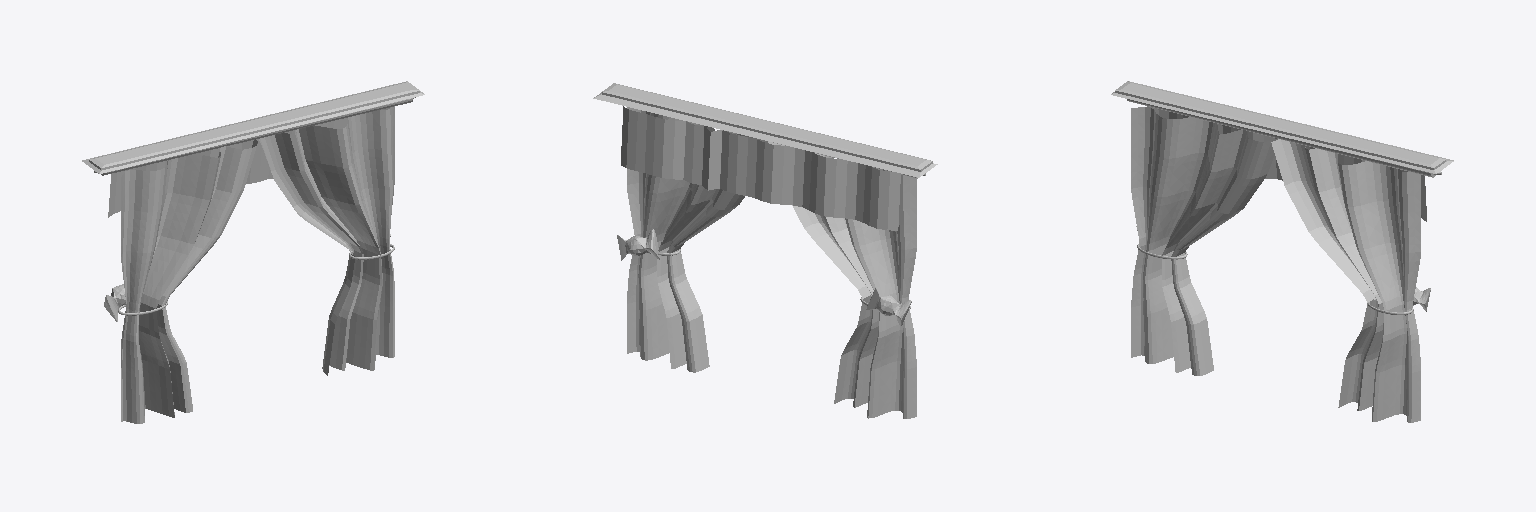
The model's file is Window Drapes.obj.
3 views of the same model, side by side, from view 1: azimuth 30°, elevation 25°; view 2: azimuth 150°, elevation 25°; view 3: azimuth 330°, elevation 25° (orthographic).
Parts seen in each view (by area): view 1: ffd1Lattice2; view 2: ffd1Lattice2; view 3: ffd1Lattice2.
Boxes of the visible parts, x1,y1,x2,y2 form: ffd1Lattice2: [82, 81, 424, 423]; ffd1Lattice2: [593, 83, 937, 418]; ffd1Lattice2: [1111, 81, 1453, 422].
Size of the model in its own units: 11.51 by 8.87 by 1.53.